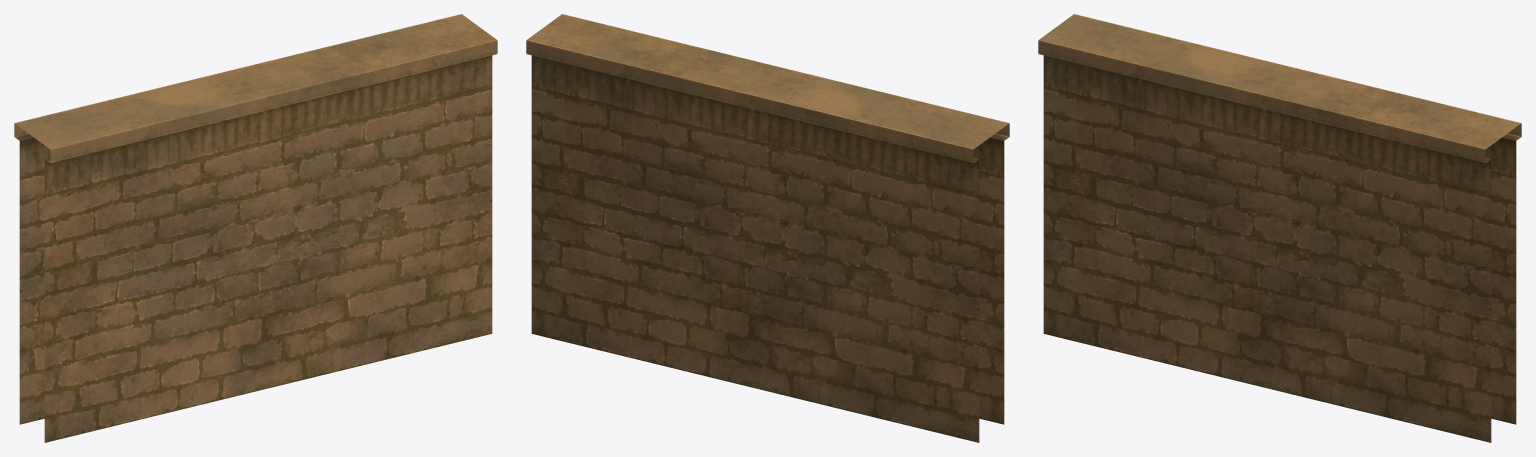
File: wall_01.fbx
3 views of the same model, side by side, from view 1: azimuth 30°, elevation 25°; view 2: azimuth 150°, elevation 25°; view 3: azimuth 330°, elevation 25° (orthographic).
Visible parts, largest first — view 1: wall_01; view 2: wall_01; view 3: wall_01.
Boxes of the visible parts, x1,y1,x2,y2 form: wall_01: (14, 14, 497, 442); wall_01: (526, 14, 1009, 442); wall_01: (1038, 14, 1521, 442).
Size of the model in its own units: 400 by 254 by 55.56.
